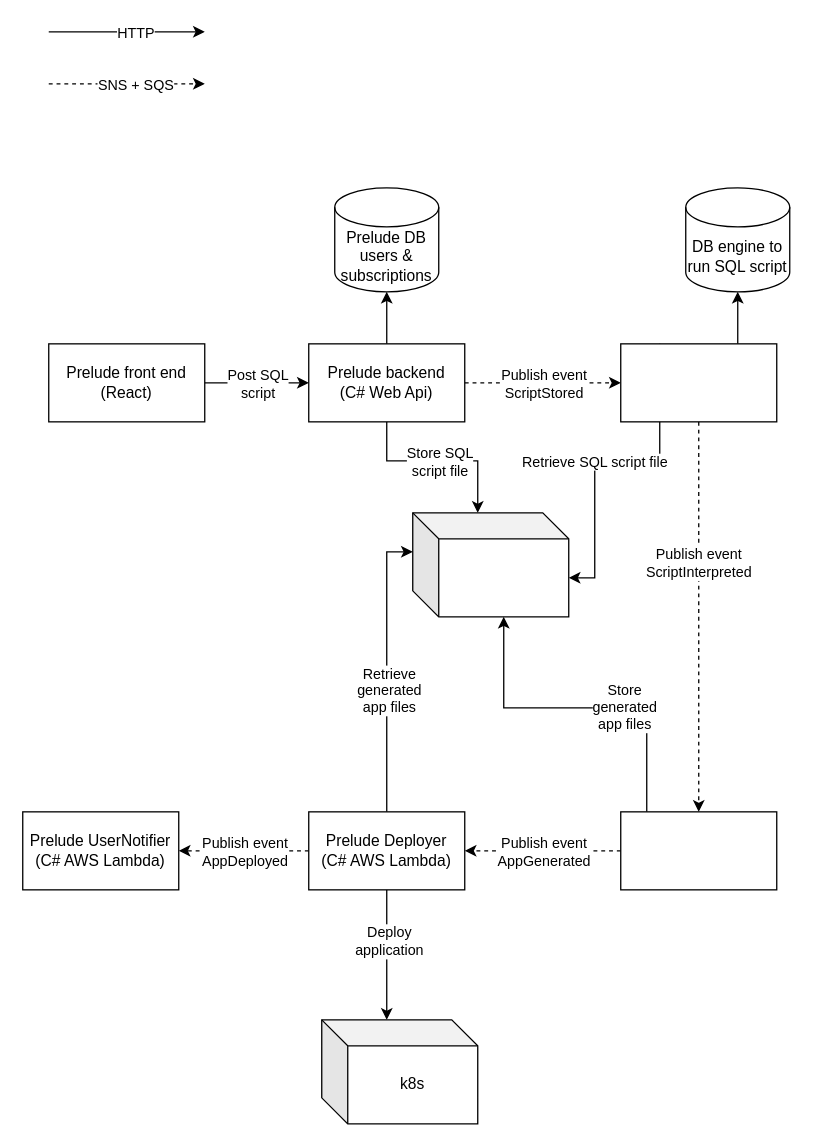
This 813x1147 diagram has some shape labels left out. Each missing label, with the box of its shape:
Prelude Database Interpreter (C# AWS Lambda): (619, 343, 777, 422)
Prelude Generator (C# AWS Lambda): (619, 811, 777, 890)
S3: (411, 512, 569, 617)
